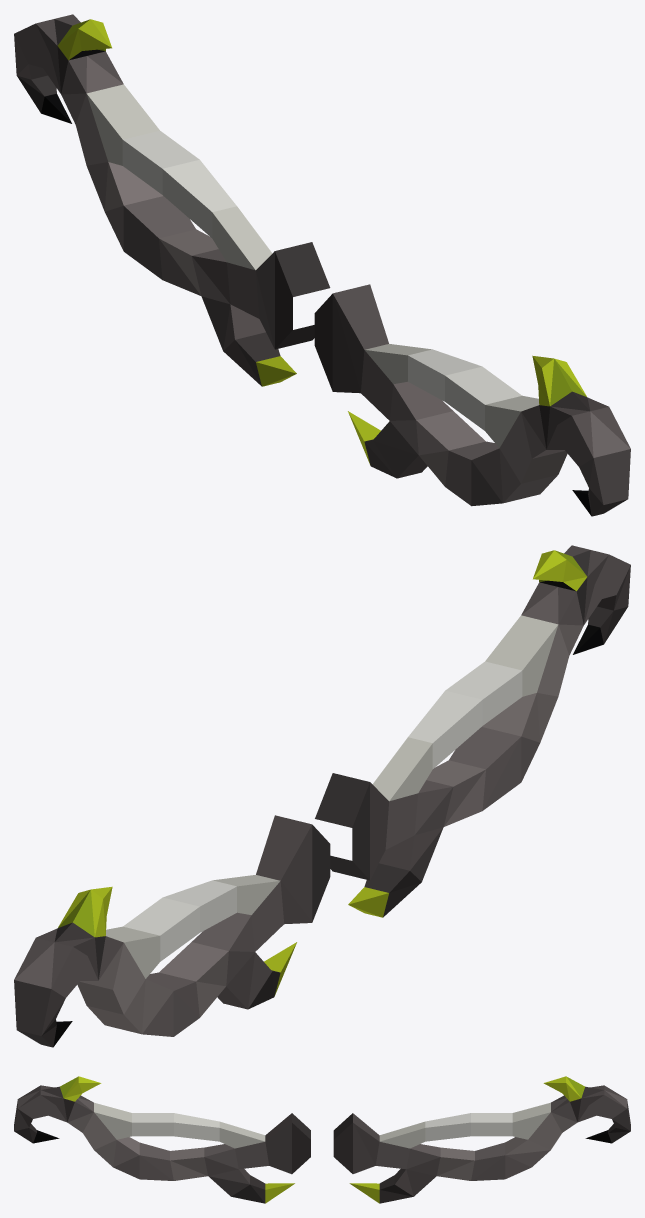
Rendered from player_twisted_bow.glb.
3 renders of one model, top to bottom at view 1: azimuth 30°, elevation 25°; view 2: azimuth 150°, elevation 25°; view 3: azimuth 270°, elevation 25°, orthographic. The views are drawn at different scales.
Bounding box in the file's own units: 7.96 × 35.98 × 162.
Materials: 1 (1 with a texture image).
